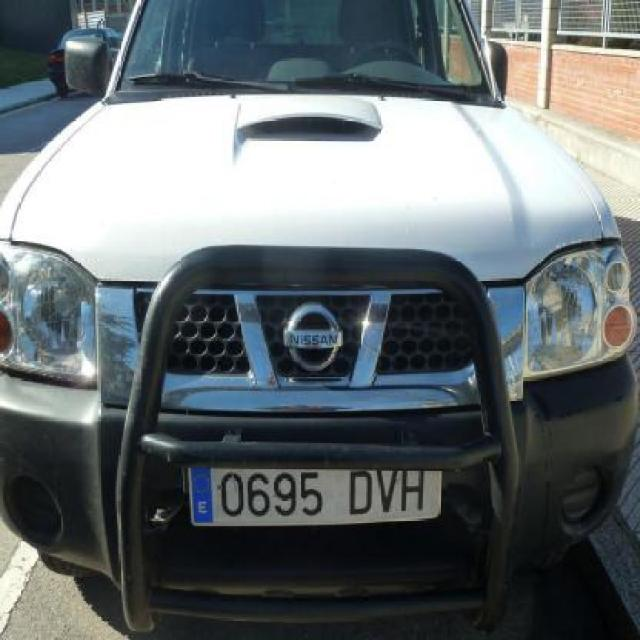License-Plates: (189, 465, 442, 527)
